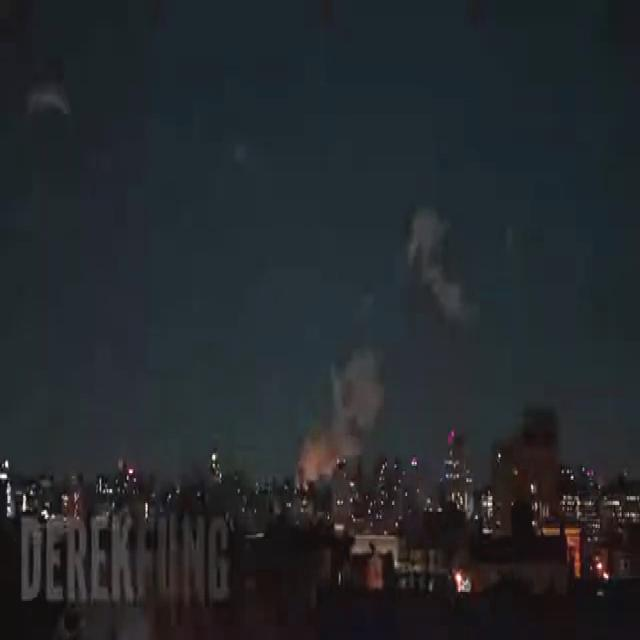smoke: (298, 350, 383, 480)
